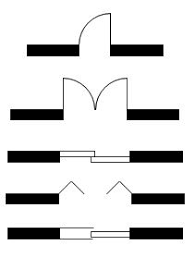door: (58, 69, 131, 108), (60, 142, 129, 170), (60, 220, 129, 248), (74, 8, 114, 44), (102, 175, 130, 207), (60, 175, 86, 204)
